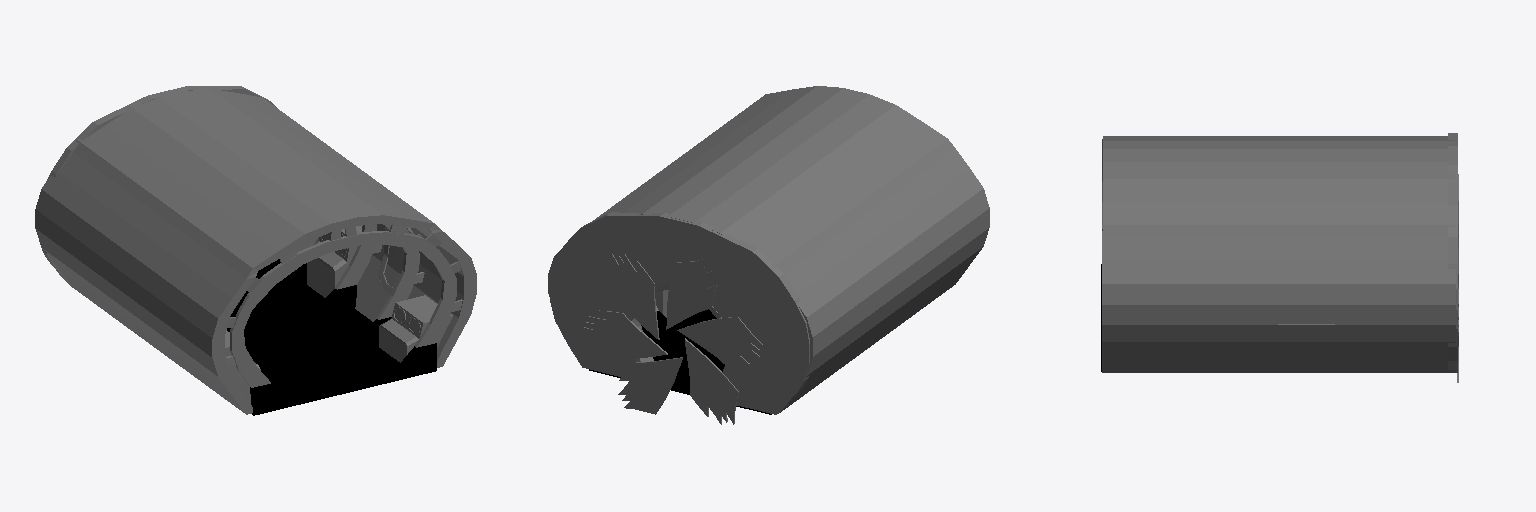
The model's file is hallway_substance_v2.obj.
The picture shows the model from 3 angles: view 1: azimuth 30°, elevation 25°; view 2: azimuth 150°, elevation 25°; view 3: azimuth 270°, elevation 25°; orthographic projection.
Visible parts, largest first — view 1: exterior, floor, arch arches, trueTerminal terminalAndMonitor, trueTerminal terminalAndMonitor4, back_wall, arches arch1, arches arch2, window1; view 2: exterior, back_wall, Door door_piece5, door_piece1 Door, Door door_piece2, Door door_piece4, Door door_piece6, Door door_piece3, floor; view 3: exterior, back_wall.
Part boxes in pixels (bbox=[...]): exterior: bbox=[35, 87, 476, 414]; floor: bbox=[227, 259, 436, 415]; arch arches: bbox=[226, 225, 462, 387]; trueTerminal terminalAndMonitor: bbox=[379, 295, 452, 362]; trueTerminal terminalAndMonitor4: bbox=[307, 225, 362, 297]; back_wall: bbox=[42, 86, 276, 284]; arches arch1: bbox=[376, 224, 424, 319]; arches arch2: bbox=[335, 224, 381, 289]; window1: bbox=[379, 226, 419, 294]; exterior: bbox=[548, 86, 989, 413]; back_wall: bbox=[549, 212, 809, 414]; Door door_piece5: bbox=[685, 338, 738, 424]; door_piece1 Door: bbox=[582, 310, 667, 358]; Door door_piece2: bbox=[606, 254, 659, 339]; Door door_piece4: bbox=[677, 317, 762, 364]; Door door_piece6: bbox=[618, 357, 682, 414]; Door door_piece3: bbox=[666, 259, 716, 329]; floor: bbox=[589, 309, 771, 414]; exterior: bbox=[1102, 136, 1455, 372]; back_wall: bbox=[1448, 133, 1457, 372].
Size of the model in its own units: 1313 by 948 by 1536.